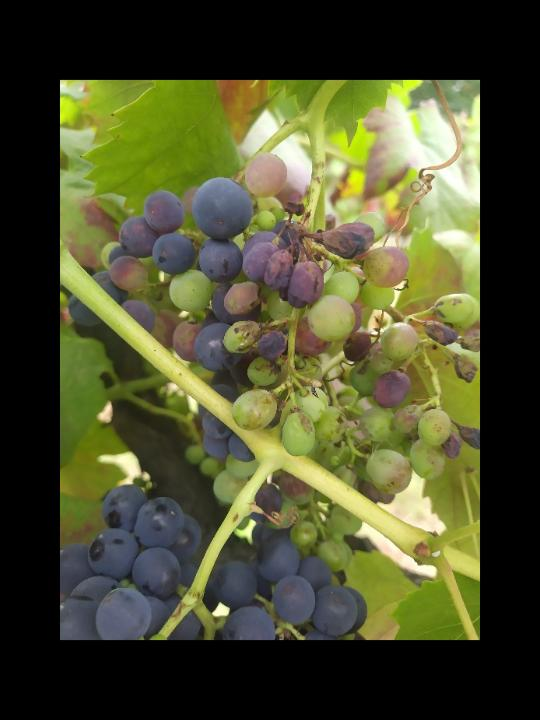grape: (67, 149, 480, 572)
